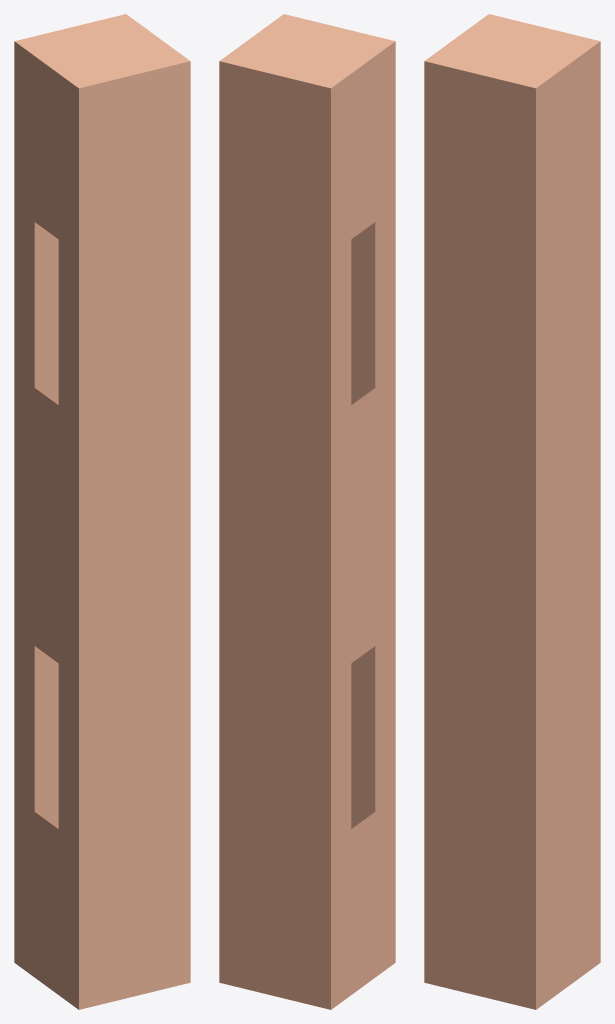
Rendered from crafted-gate-post-left.glb.
The picture shows the model from 3 angles, left to right: view 1: azimuth 30°, elevation 25°; view 2: azimuth 150°, elevation 25°; view 3: azimuth 330°, elevation 25°; orthographic projection.
Visible parts, largest first — view 1: post-0; view 2: post-0; view 3: post-0.
Part boxes in pixels (x1,y1,x2,y2): post-0: (14, 14, 190, 1009); post-0: (219, 14, 395, 1009); post-0: (424, 14, 600, 1009).
Size of the model in its own units: 0.07 by 0.552 by 0.07.
